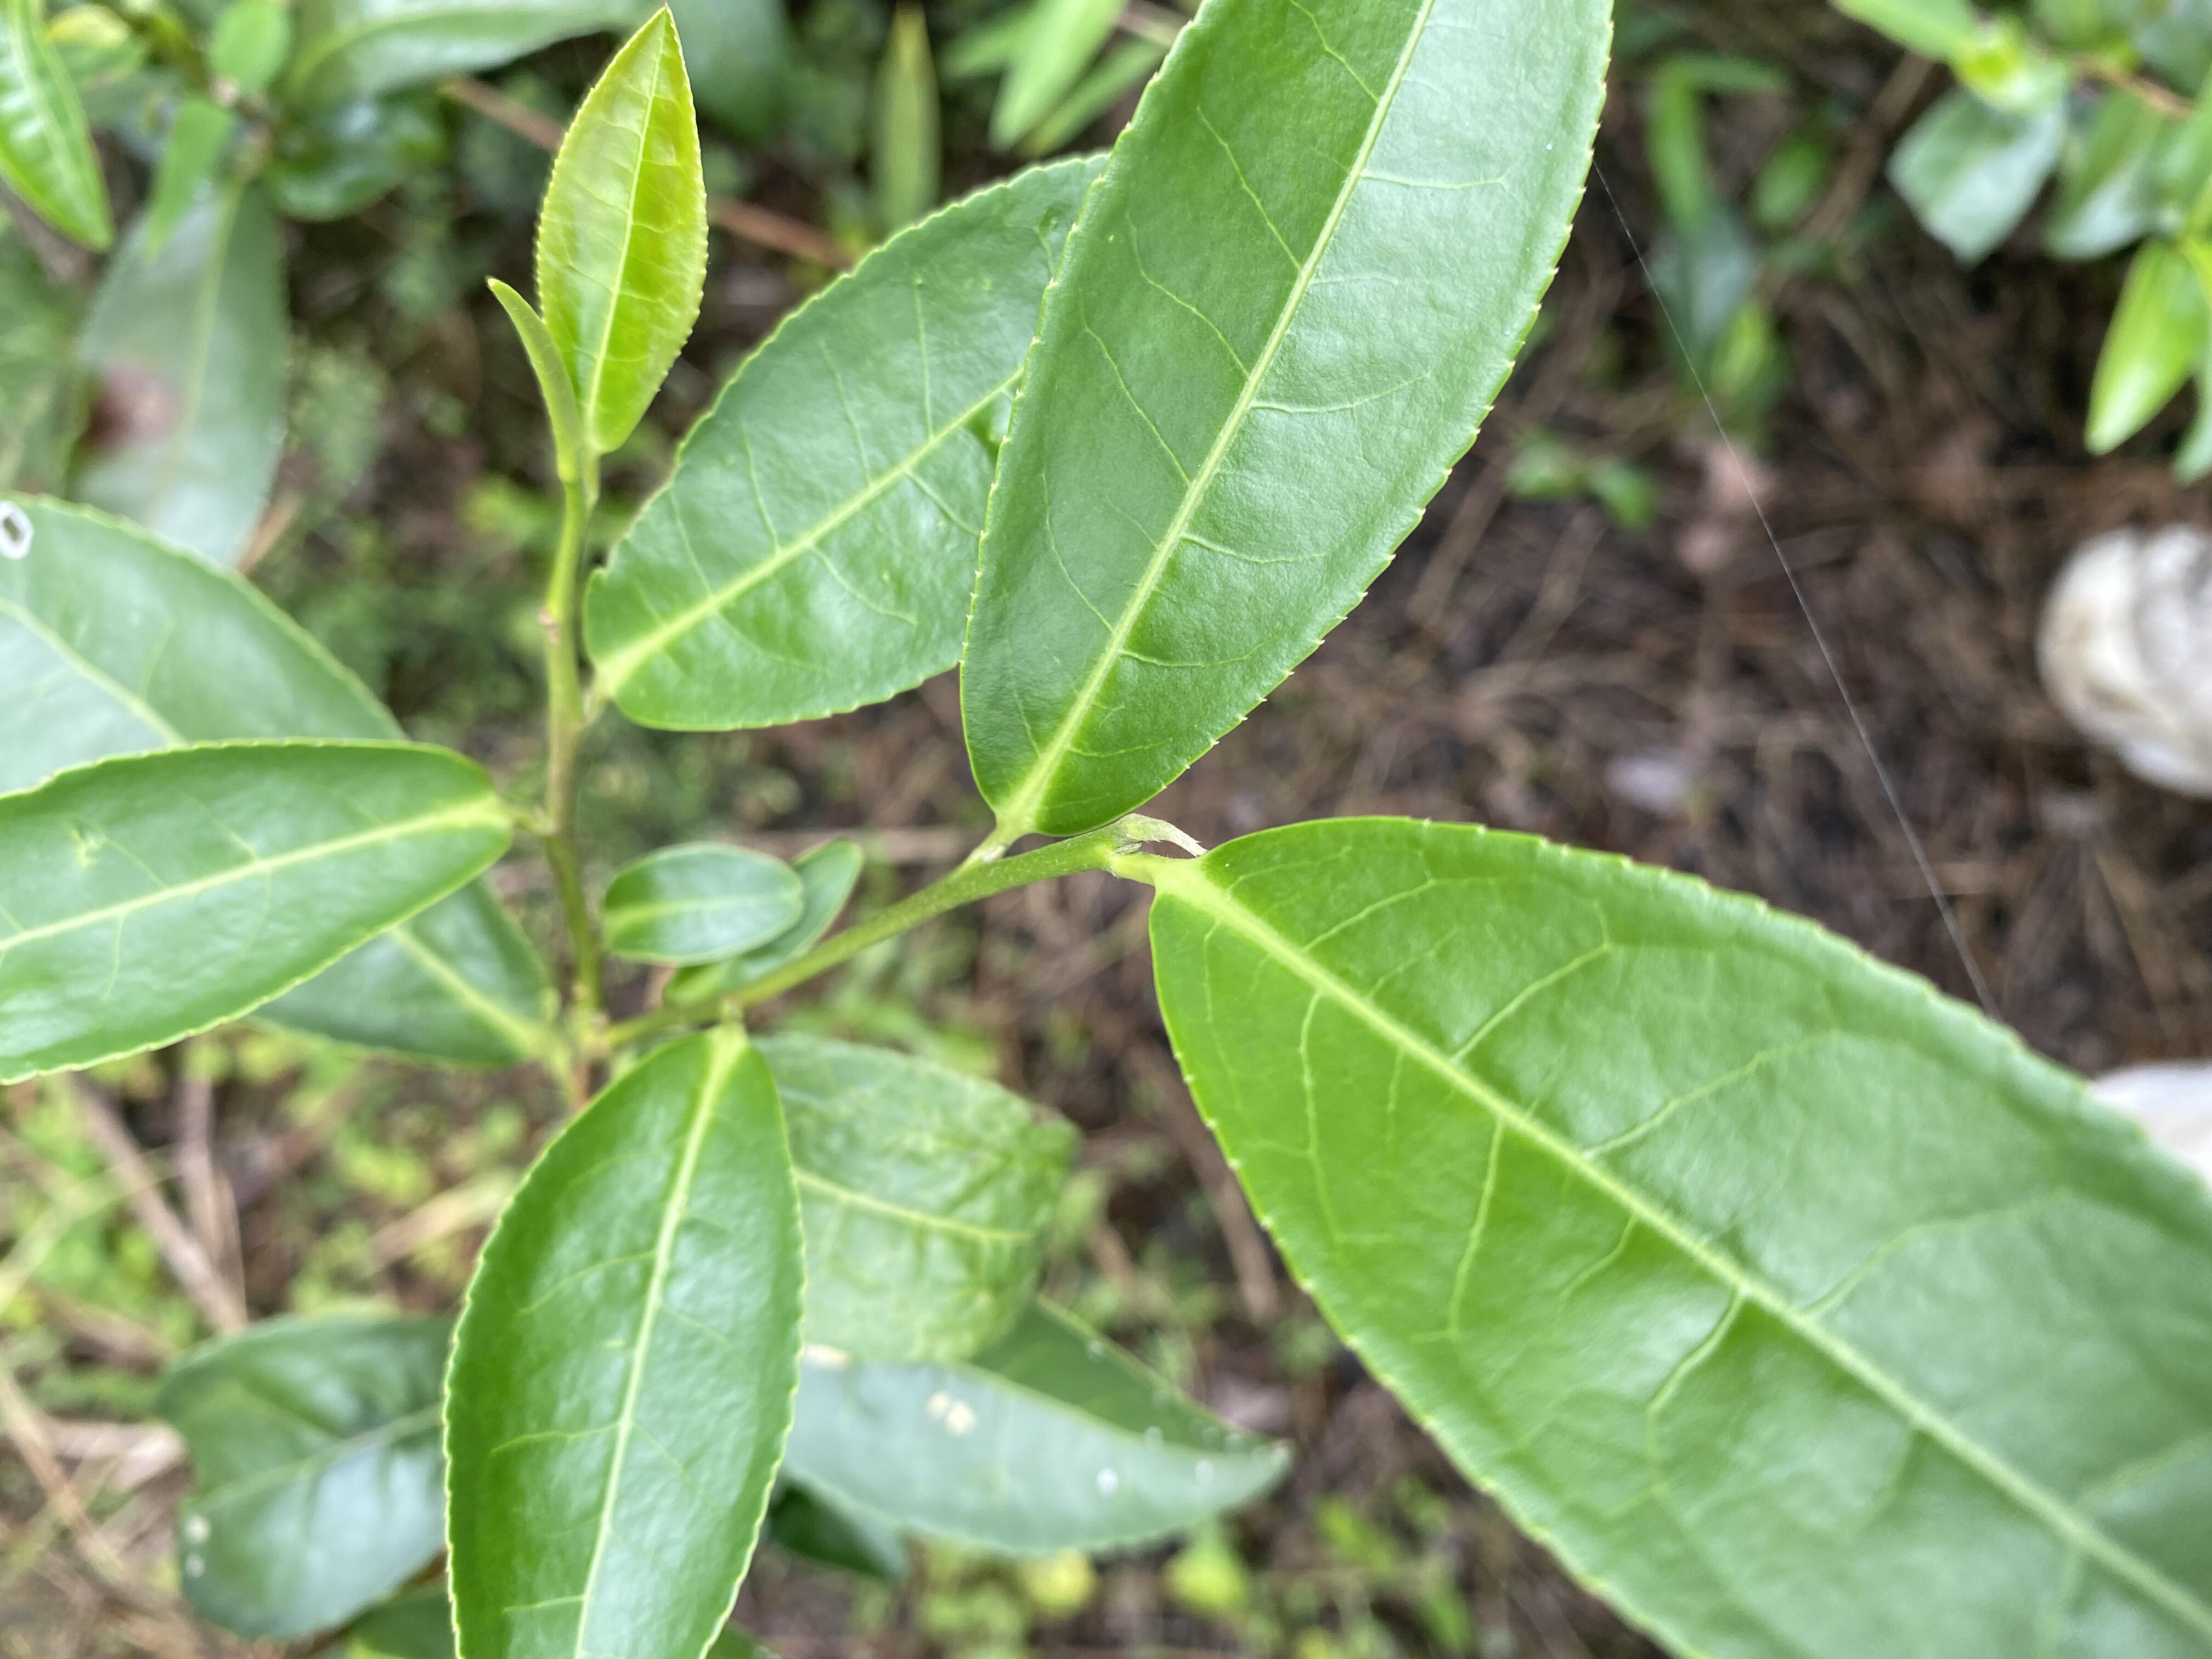healthy: (1148, 817, 2207, 1656), (958, 3, 1616, 842), (580, 150, 1106, 742), (434, 1028, 808, 1659), (3, 739, 512, 1089), (531, 7, 711, 458)
